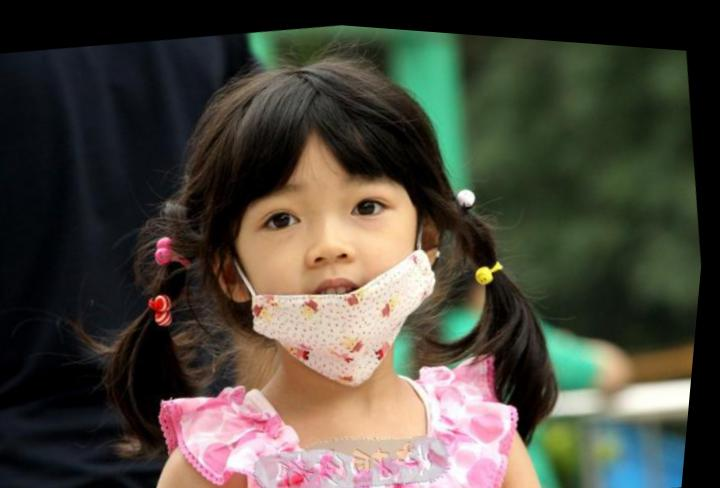WRONG: (210, 142, 453, 382)
